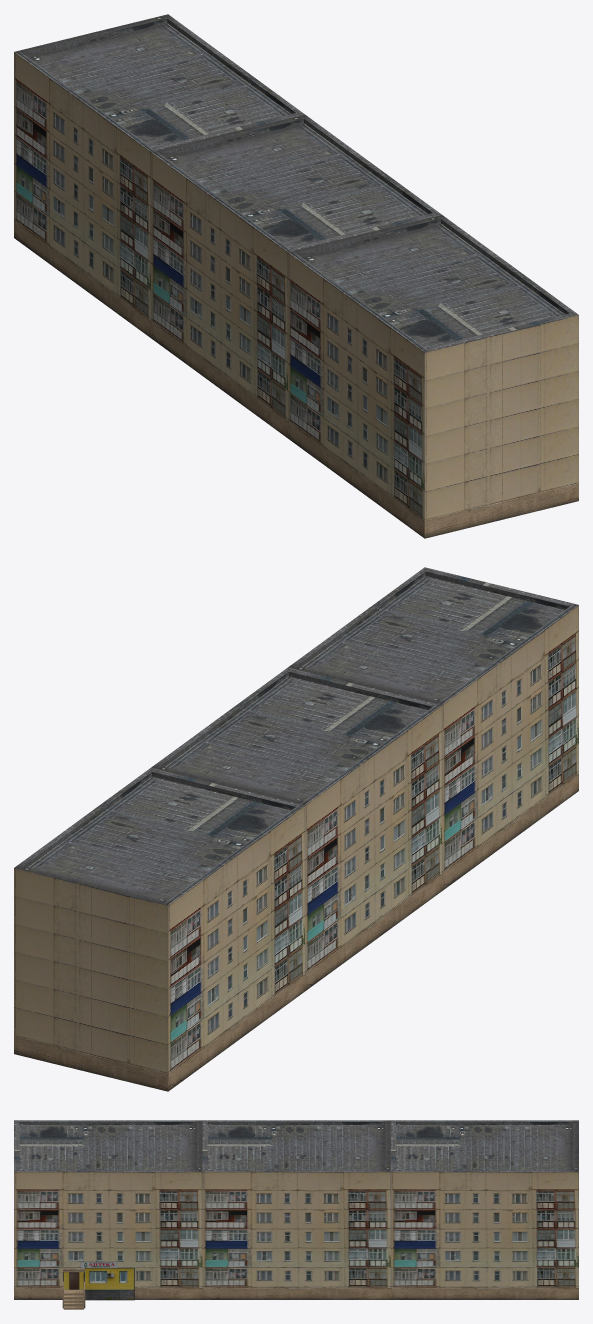
Rendered from mediemhouse_4.fbx.
3 views of the same model, one above another, from view 1: azimuth 30°, elevation 25°; view 2: azimuth 150°, elevation 25°; view 3: azimuth 270°, elevation 25° (orthographic). The views are drawn at different scales.
Parts seen in each view (by area): view 1: af80ce00-c0ee-4f70-bfd4-6846fb635961; view 2: af80ce00-c0ee-4f70-bfd4-6846fb635961; view 3: af80ce00-c0ee-4f70-bfd4-6846fb635961.
Part boxes in pixels (x1,y1,x2,y2): af80ce00-c0ee-4f70-bfd4-6846fb635961: [14, 14, 578, 538]; af80ce00-c0ee-4f70-bfd4-6846fb635961: [14, 567, 578, 1091]; af80ce00-c0ee-4f70-bfd4-6846fb635961: [14, 1120, 578, 1309].
Bounding box in the file's own units: 13.77 × 13.35 × 53.4.
1 material, 1 textured.
